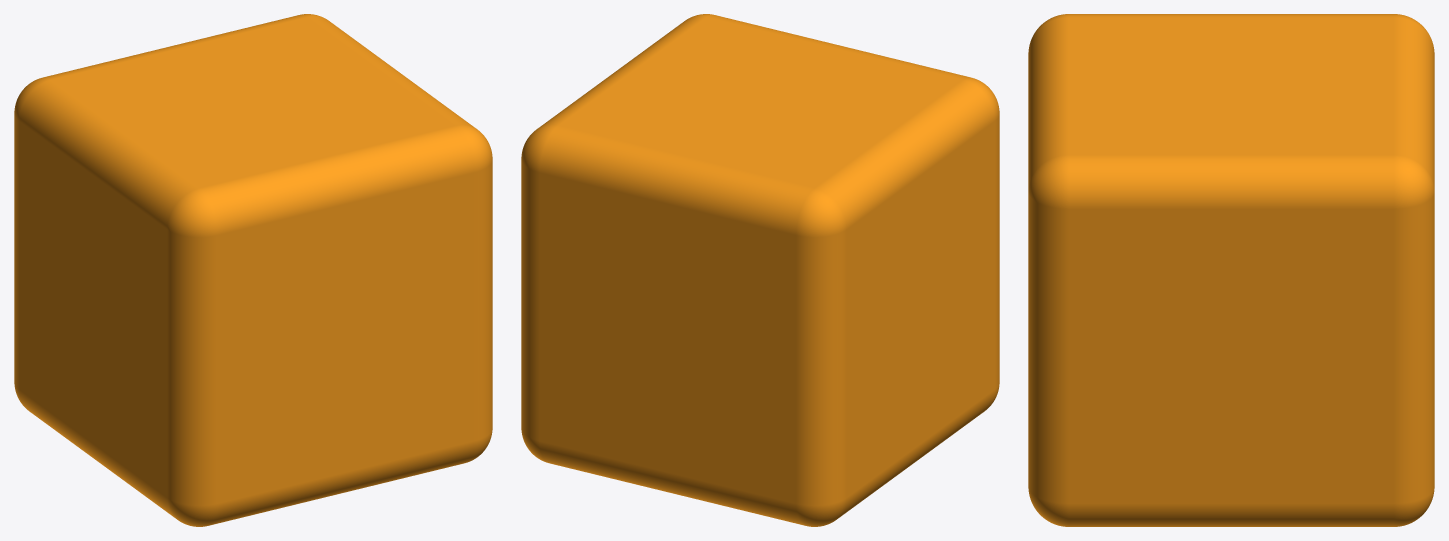
The model's file is cube_1x_omni (2).fbx.
3 views of the same model, side by side, from view 1: azimuth 30°, elevation 25°; view 2: azimuth 150°, elevation 25°; view 3: azimuth 270°, elevation 25° (orthographic). The views are drawn at different scales.
Parts seen in each view (by area): view 1: cube_1x_omni; view 2: cube_1x_omni; view 3: cube_1x_omni.
Boxes of the visible parts, x1=… form: cube_1x_omni: x1=14, y1=14, x2=492, y2=526; cube_1x_omni: x1=521, y1=14, x2=999, y2=526; cube_1x_omni: x1=1028, y1=14, x2=1434, y2=526.
Bounding box in the file's own units: 200 × 200 × 200.
